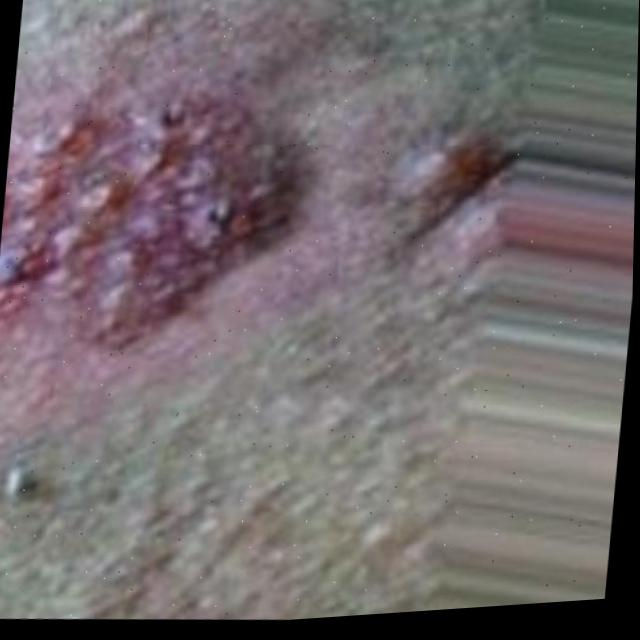Shingles: (0, 71, 318, 375)
